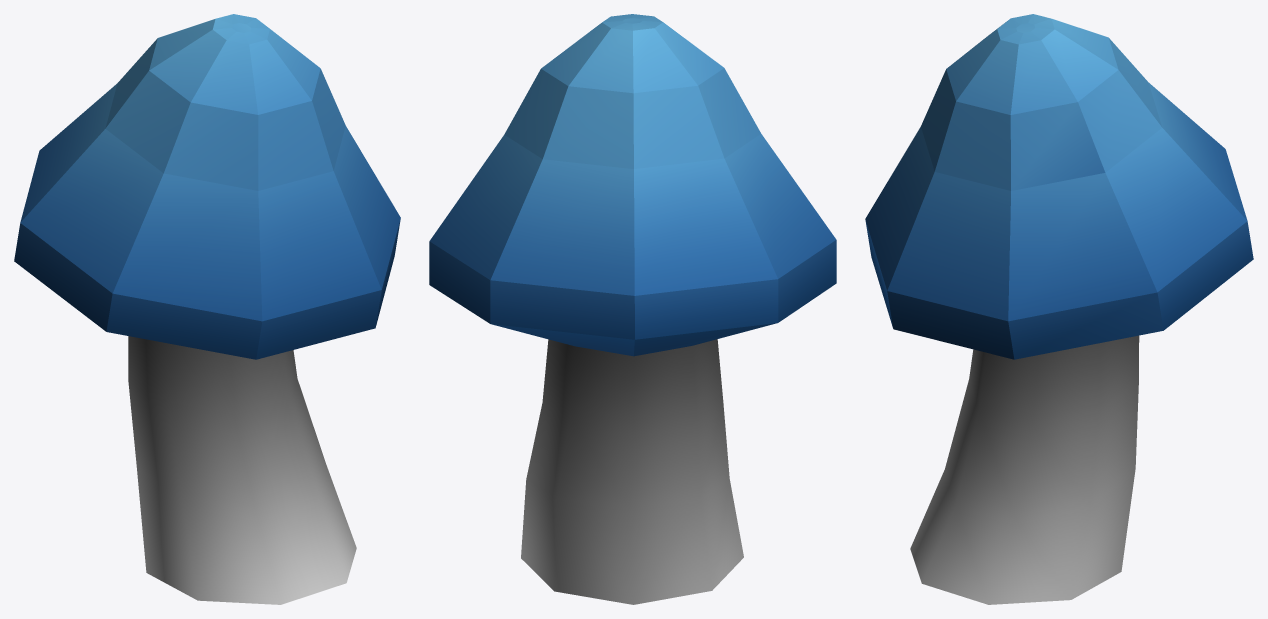
Rendered from MushroomSmallBlue.FBX.
3 renders of one model, left to right at view 1: azimuth 30°, elevation 25°; view 2: azimuth 150°, elevation 25°; view 3: azimuth 270°, elevation 25°, orthographic. The views are drawn at different scales.
Visible parts, largest first — view 1: Cylinder054; view 2: Cylinder054; view 3: Cylinder054.
Boxes of the visible parts, x1,y1,x2,y2 form: Cylinder054: (14, 14, 400, 604); Cylinder054: (429, 14, 836, 604); Cylinder054: (865, 14, 1253, 604).
Size of the model in its own units: 12.54 by 19.04 by 12.58.
